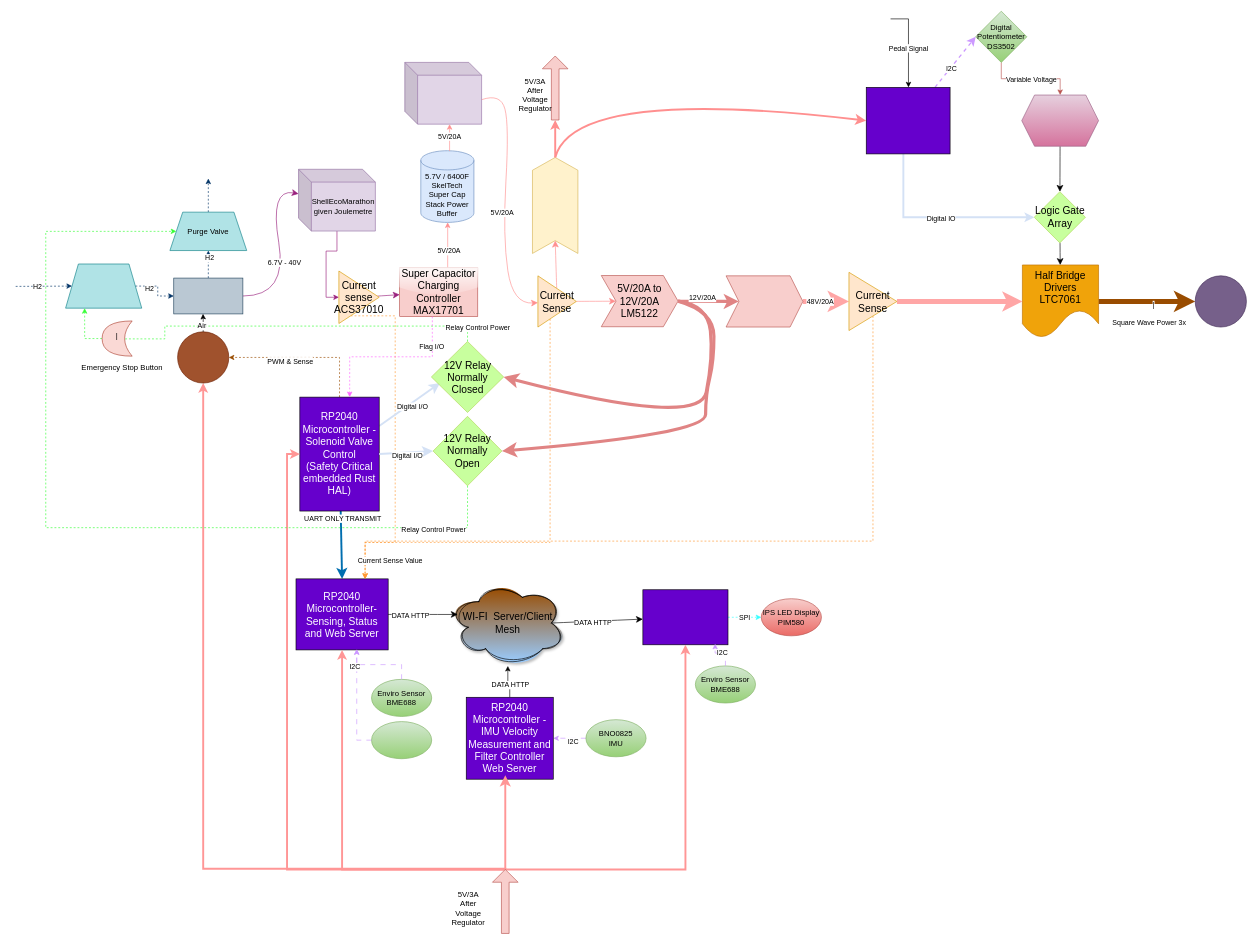
The diagram is 1258 pixels wide and 945 high, and some of its shapes have lost their labels. Here are the shapes that lost their labels. From the top down, the centre of each, then its label:
At pixel 443 93: "ShellEcoMarathon Extra Joulemetre for SupCap voltage".
At pixel 908 120: "RP2040 Microcontroller - Feedback System".
At pixel 1060 120: "PWM Modulation LTC6992-X".
At pixel 555 205: "5V/3A Voltage Regulator TPS7A85".
At pixel 103 285: "Hydrogen Feed Valve".
At pixel 208 295: "Fuel Cell".
At pixel 764 301: "12V/20A to 48V/20A LM5122".
At pixel 1220 301: "BLDC Motor".
At pixel 203 357: "5V PWM Fan".
At pixel 685 617: "RP2040 Microcontroller- Client Driver HUD".
At pixel 401 740: "Thermocouple Amplifier MAX31855".
